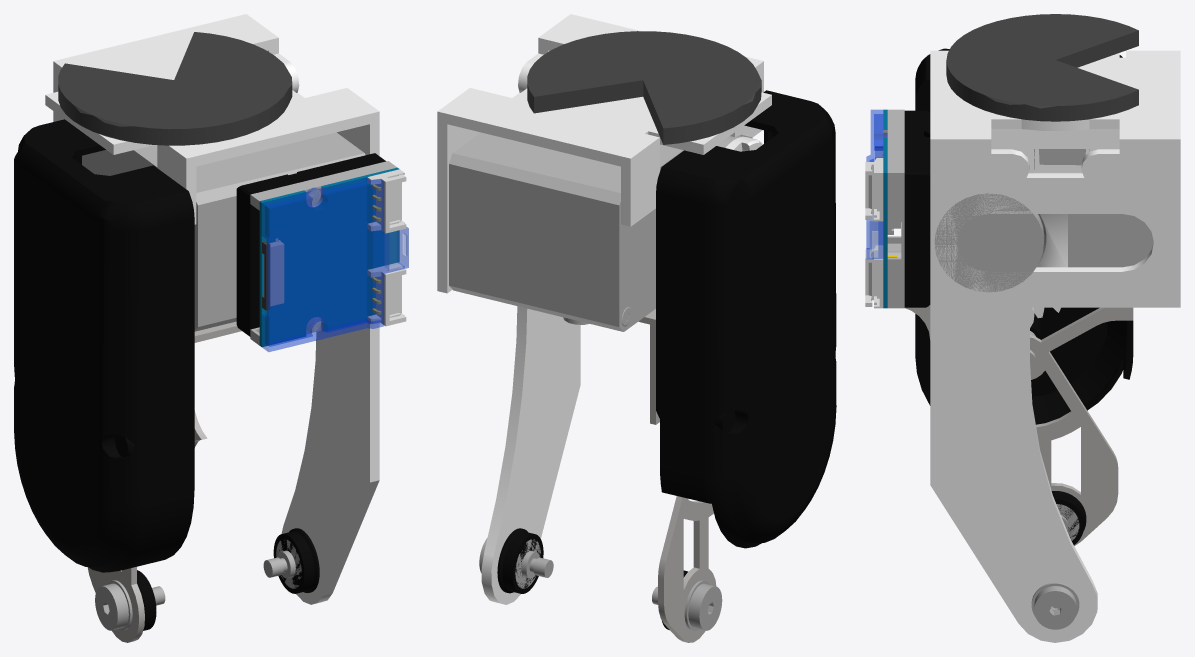
File: l_forearm_link.dae
The picture shows the model from 3 angles, left to right: view 1: azimuth 30°, elevation 25°; view 2: azimuth 150°, elevation 25°; view 3: azimuth 270°, elevation 25°; orthographic projection. The views are drawn at different scales.
Visible parts, largest first — view 1: FBXASC227FBXASC130FBXASC189FBXASC227FBXASC131FBXASC170FBXASC (×16); view 2: FBXASC227FBXASC130FBXASC189FBXASC227FBXASC131FBXASC170FBXASC (×8); view 3: FBXASC227FBXASC130FBXASC189FBXASC227FBXASC131FBXASC170FBXASC (×14).
Boxes of the visible parts, <box> form: FBXASC227FBXASC130FBXASC189FBXASC227FBXASC131FBXASC170FBXASC (×16): <box>14,14,408,642</box>; FBXASC227FBXASC130FBXASC189FBXASC227FBXASC131FBXASC170FBXASC (×8): <box>437,14,836,642</box>; FBXASC227FBXASC130FBXASC189FBXASC227FBXASC131FBXASC170FBXASC (×14): <box>865,14,1180,642</box>.
Size of the model in its own units: 0.0724 by 0.0737 by 0.134.
